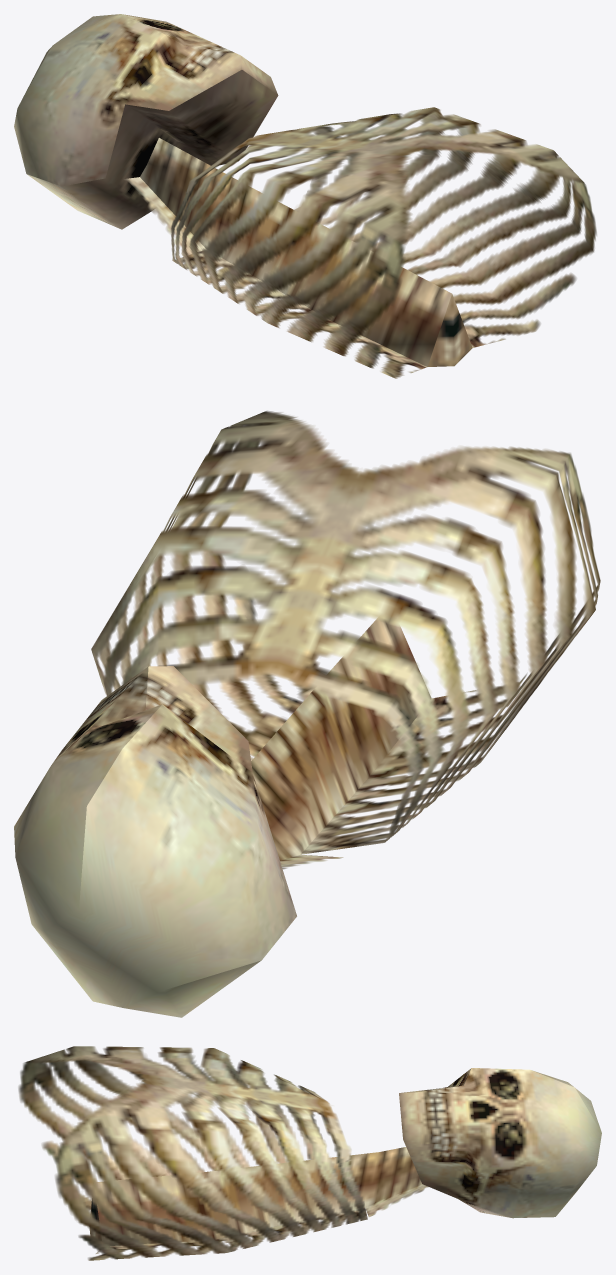
3 views of the same model, one above another, from view 1: azimuth 30°, elevation 25°; view 2: azimuth 150°, elevation 25°; view 3: azimuth 270°, elevation 25° (orthographic). The views are drawn at different scales.
Parts seen in each view (by area): view 1: d_sk_part5-col; view 2: d_sk_part5-col; view 3: d_sk_part5-col.
Boxes of the visible parts, left/top/right/bottom form: d_sk_part5-col: left=14, top=14, right=596, bottom=378; d_sk_part5-col: left=14, top=411, right=600, bottom=1017; d_sk_part5-col: left=18, top=1046, right=601, bottom=1260.
Bounding box in the file's own units: 0.3204 × 0.2064 × 0.6399.
2 materials, 2 textured.
